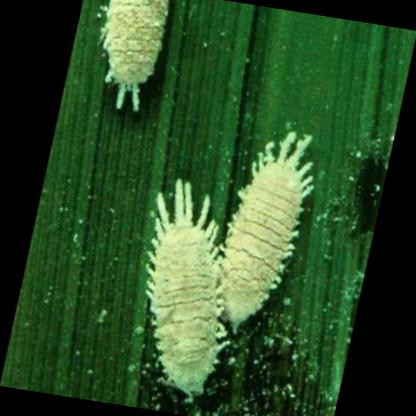mealy bug: (221, 130, 311, 332), (148, 176, 223, 400), (102, 0, 165, 109)
